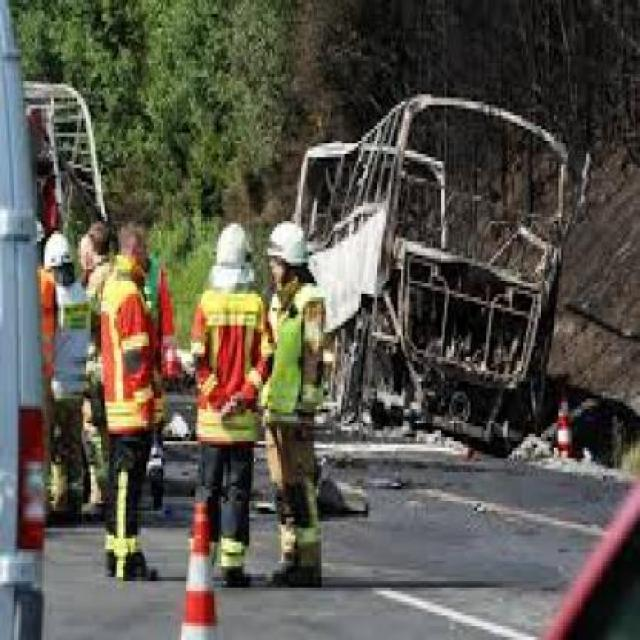accident: (293, 98, 579, 451)
